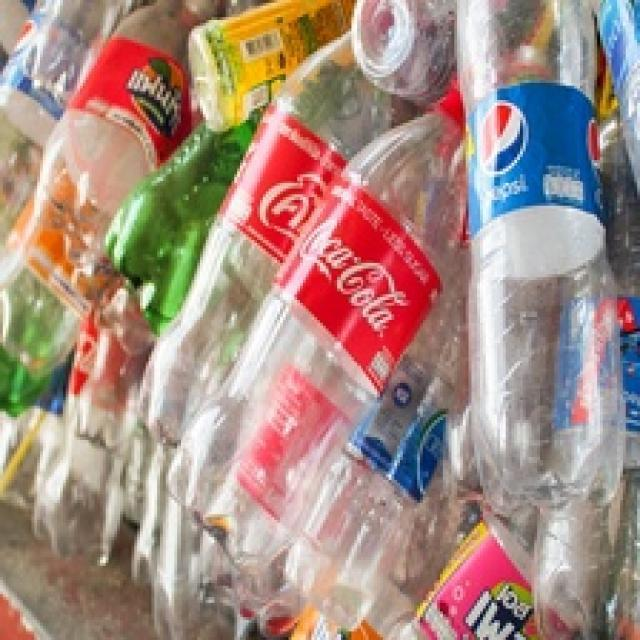bottle: (144, 67, 534, 579), (110, 12, 417, 457), (445, 1, 632, 520)
label: (304, 172, 438, 361), (458, 92, 613, 238), (82, 55, 194, 162), (239, 124, 311, 244)
